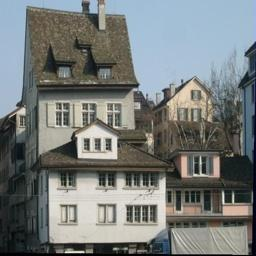building: (21, 4, 167, 250)
